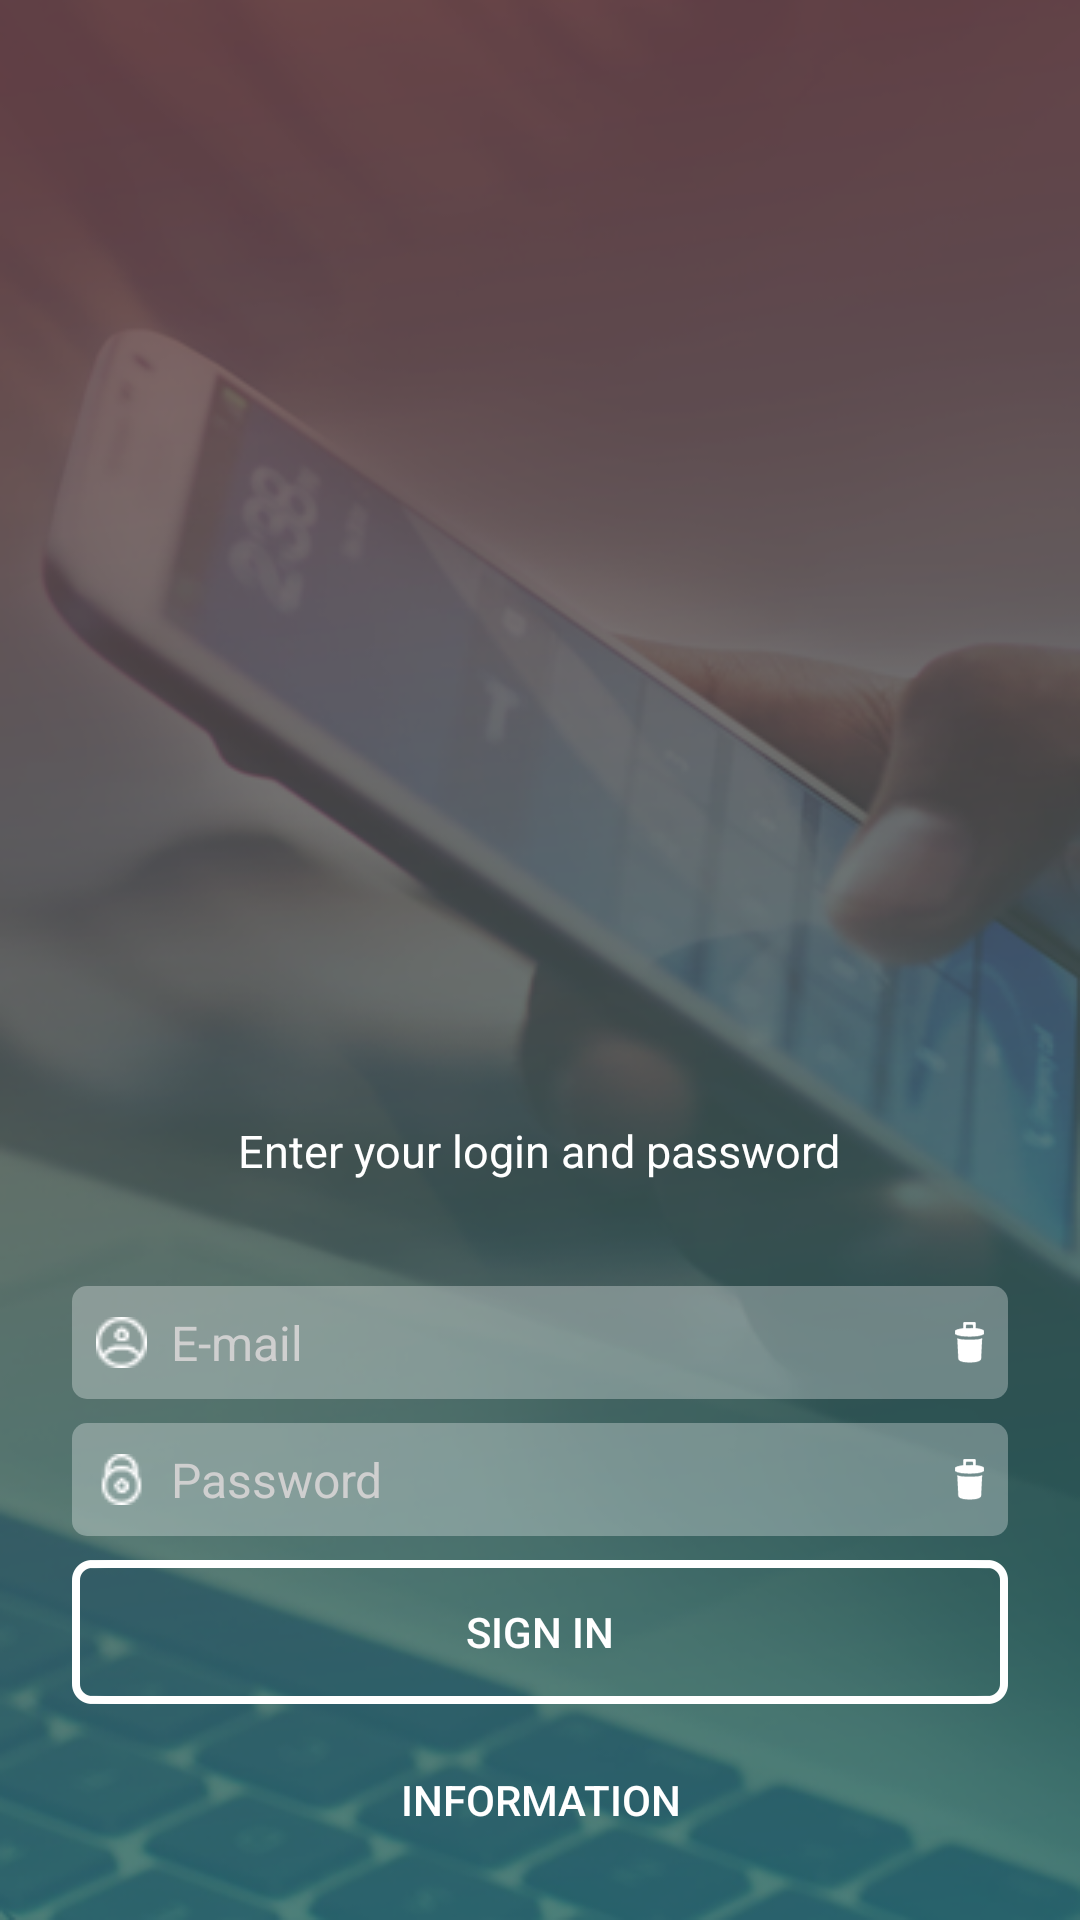

Point at icon controls on the screen. Image size 1080 x 1920, points as (x=x, y=y).
delete: (x=969, y=1342), (x=969, y=1479)
